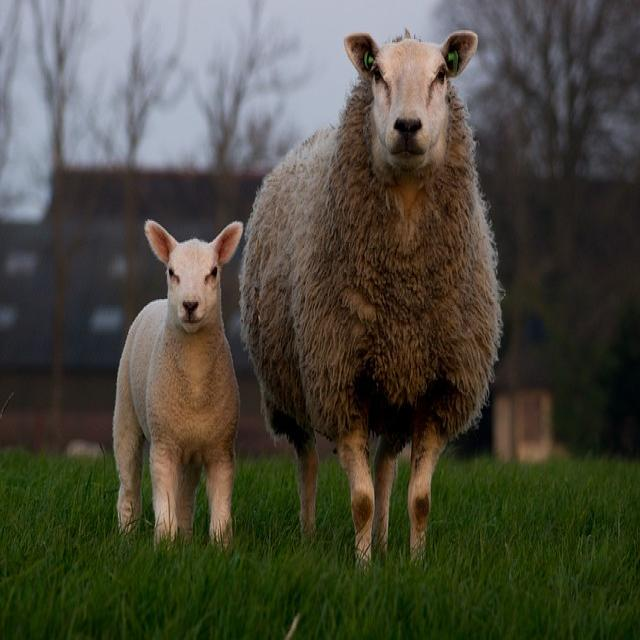goat: (241, 32, 501, 562), (112, 220, 242, 546)
